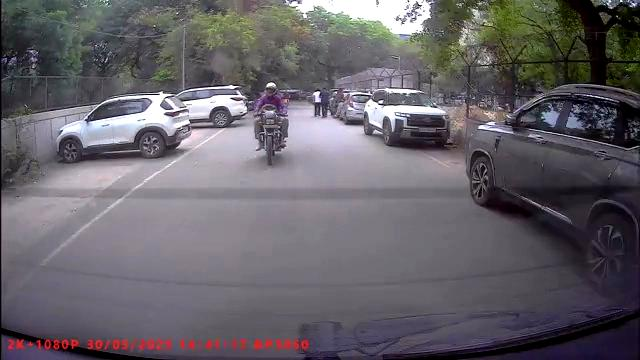motorcycle_with_helmet: (251, 80, 291, 167)
